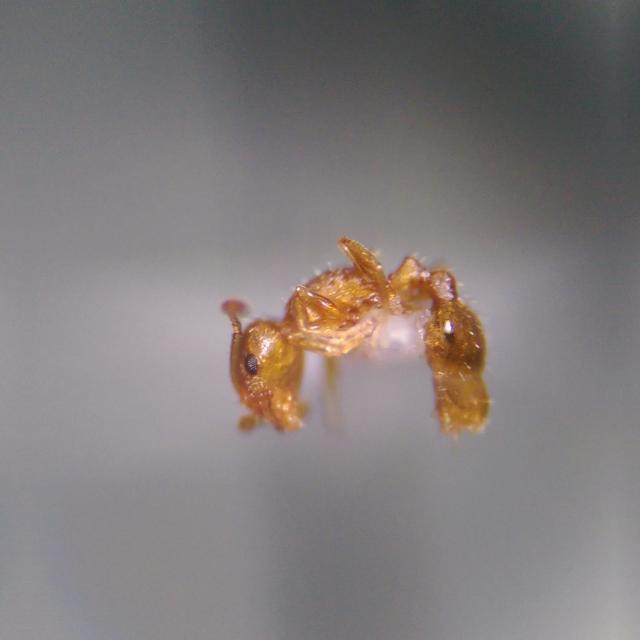Temnothorax: (178, 179, 522, 473)
